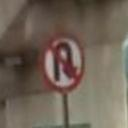NoVirarU: (39, 34, 88, 92)
